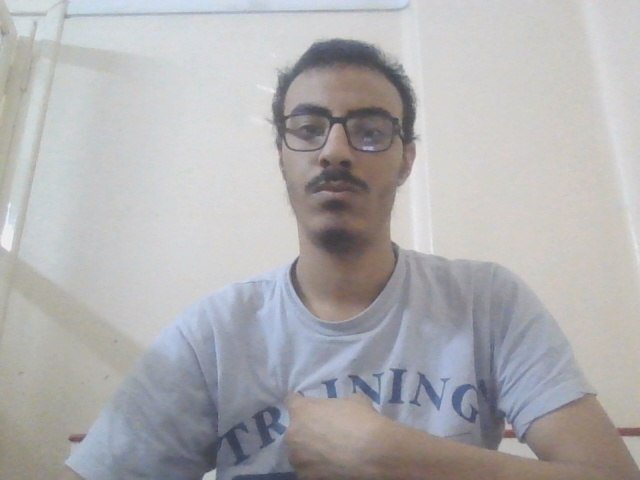Me: (267, 381, 422, 480)
